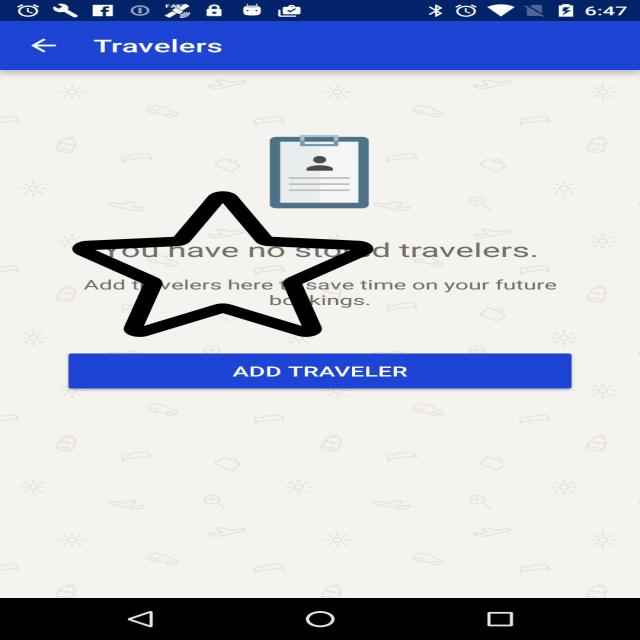forced continuity: (72, 188, 374, 340)
